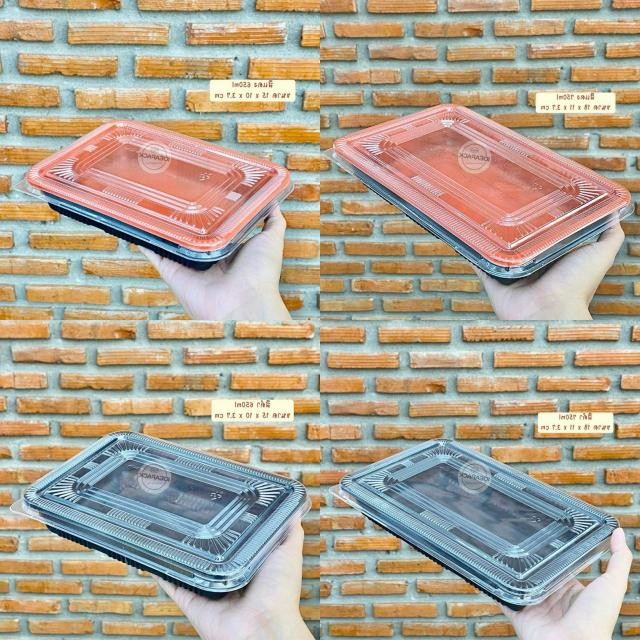Single-Use-Plastic: (325, 105, 634, 279), (11, 431, 310, 598), (331, 439, 619, 610), (16, 120, 294, 269)
